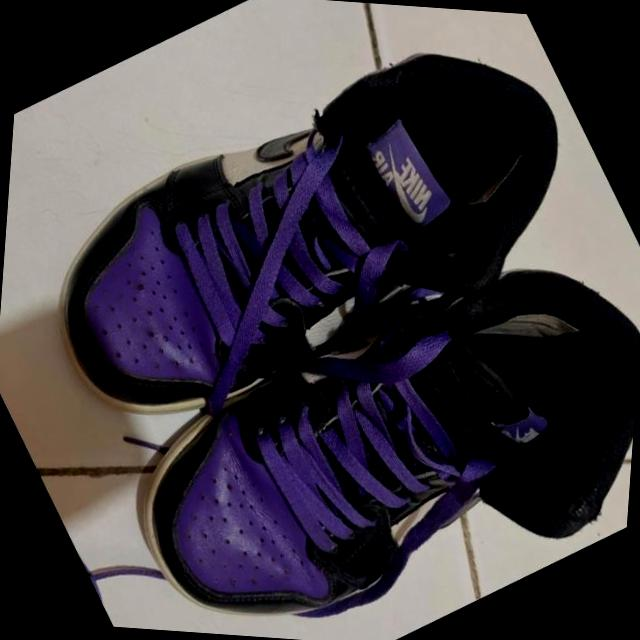nike_fake_jordan: (2, 0, 622, 492), (77, 190, 640, 640)
